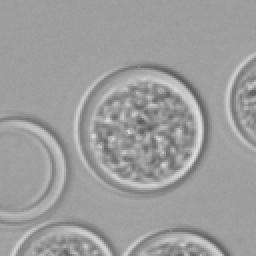picoshell: (74, 64, 206, 192), (0, 116, 70, 224), (10, 222, 112, 254), (224, 52, 254, 150), (124, 228, 228, 254)
